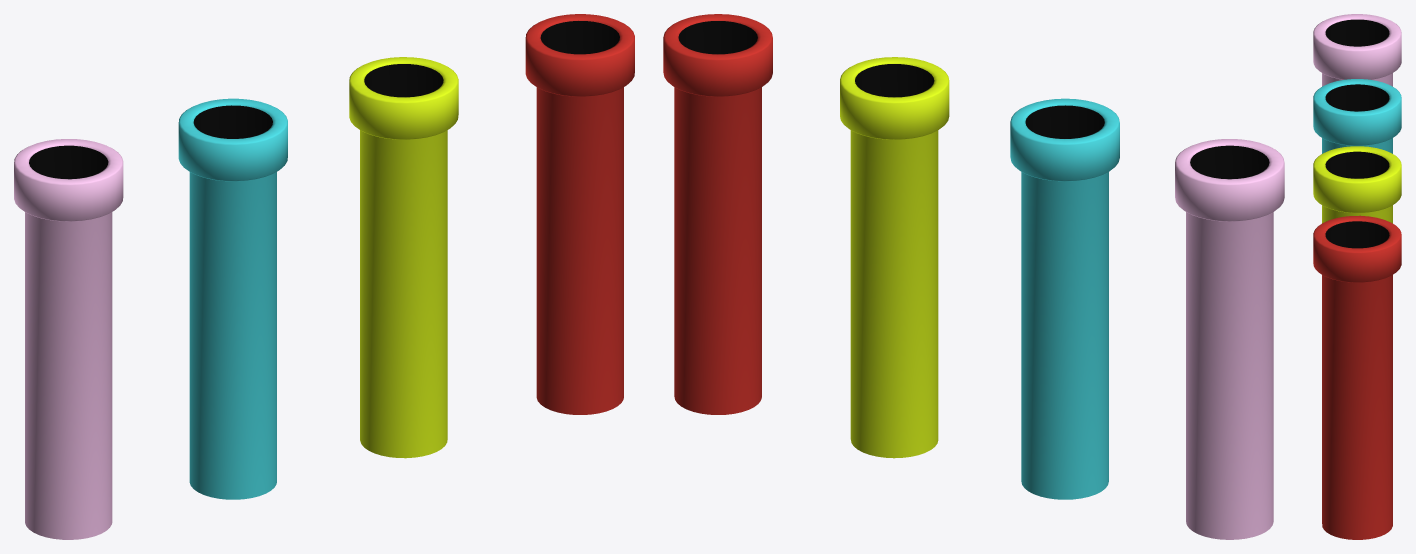
File: Pipes.fbx
3 renders of one model, left to right at view 1: azimuth 30°, elevation 25°; view 2: azimuth 150°, elevation 25°; view 3: azimuth 270°, elevation 25°, orthographic. The views are drawn at different scales.
Visible parts, largest first — view 1: Pipe_Blue, Pipe_Yellow, Pipe_Red, Pipe_Pink; view 2: Pipe_Yellow, Pipe_Blue, Pipe_Pink, Pipe_Red; view 3: Pipe_Red, Pipe_Yellow, Pipe_Blue, Pipe_Pink.
Part boxes in pixels (box(x1,y1,x2,y2)): Pipe_Blue: box(178, 98, 287, 499); Pipe_Yellow: box(349, 57, 458, 458); Pipe_Red: box(525, 14, 634, 414); Pipe_Pink: box(14, 139, 123, 539); Pipe_Yellow: box(840, 57, 949, 458); Pipe_Blue: box(1010, 98, 1119, 499); Pipe_Pink: box(1175, 139, 1284, 539); Pipe_Red: box(663, 14, 772, 414); Pipe_Red: box(1313, 215, 1401, 539); Pipe_Yellow: box(1313, 146, 1401, 223); Pipe_Blue: box(1313, 79, 1401, 153); Pipe_Pink: box(1313, 14, 1401, 86).
Size of the model in its own units: 1246 by 708 by 194.
